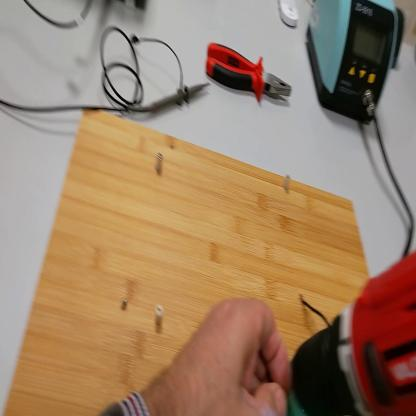electric screwdriver: (287, 246, 416, 416)
hand: (156, 294, 293, 416)
low voltage board: (281, 297, 326, 416)
oscilloscope: (121, 1, 147, 10)
oscilloscope probe tip: (134, 81, 211, 116)
pliers: (205, 37, 294, 105)
socket: (392, 9, 406, 71)
welder station: (309, 1, 399, 125)
working area: (4, 106, 369, 414)
